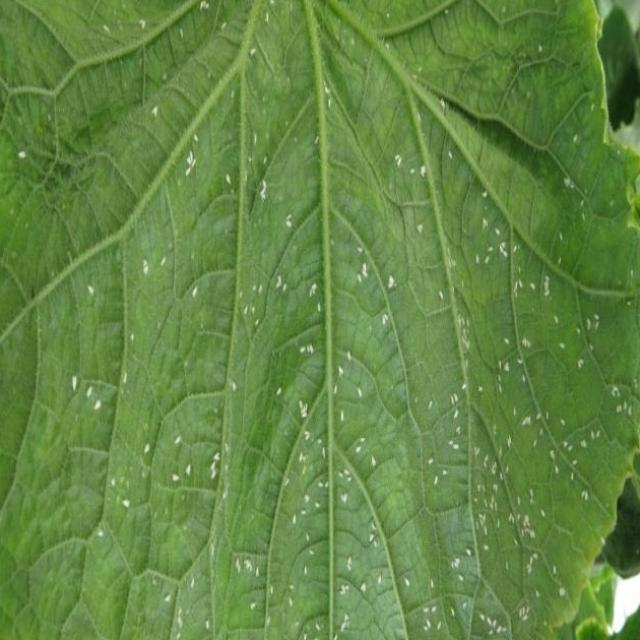Whitefly: (380, 111, 628, 582), (205, 112, 374, 640), (100, 452, 204, 640), (56, 260, 160, 434), (164, 122, 202, 206), (172, 0, 230, 44)
